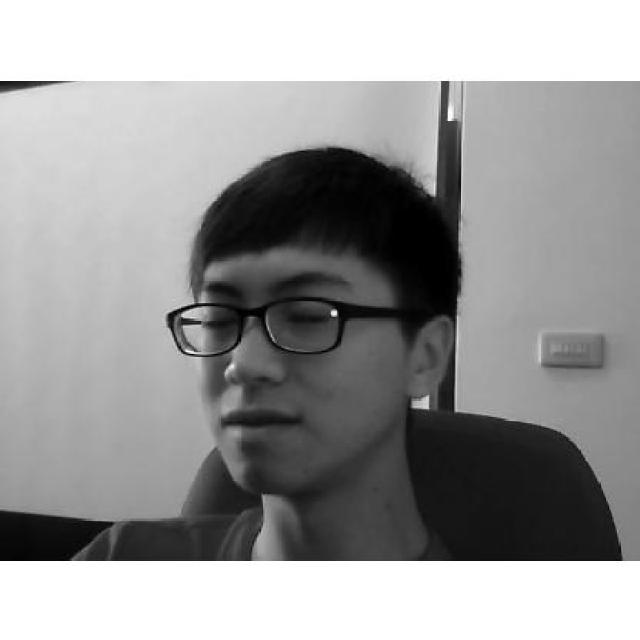inattentif: (165, 148, 457, 492)
